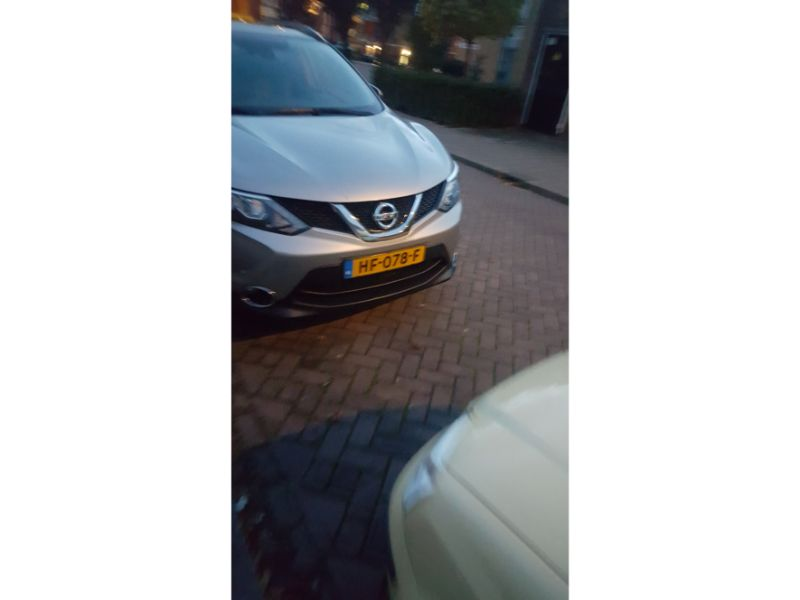kenteken: (340, 244, 429, 279)
